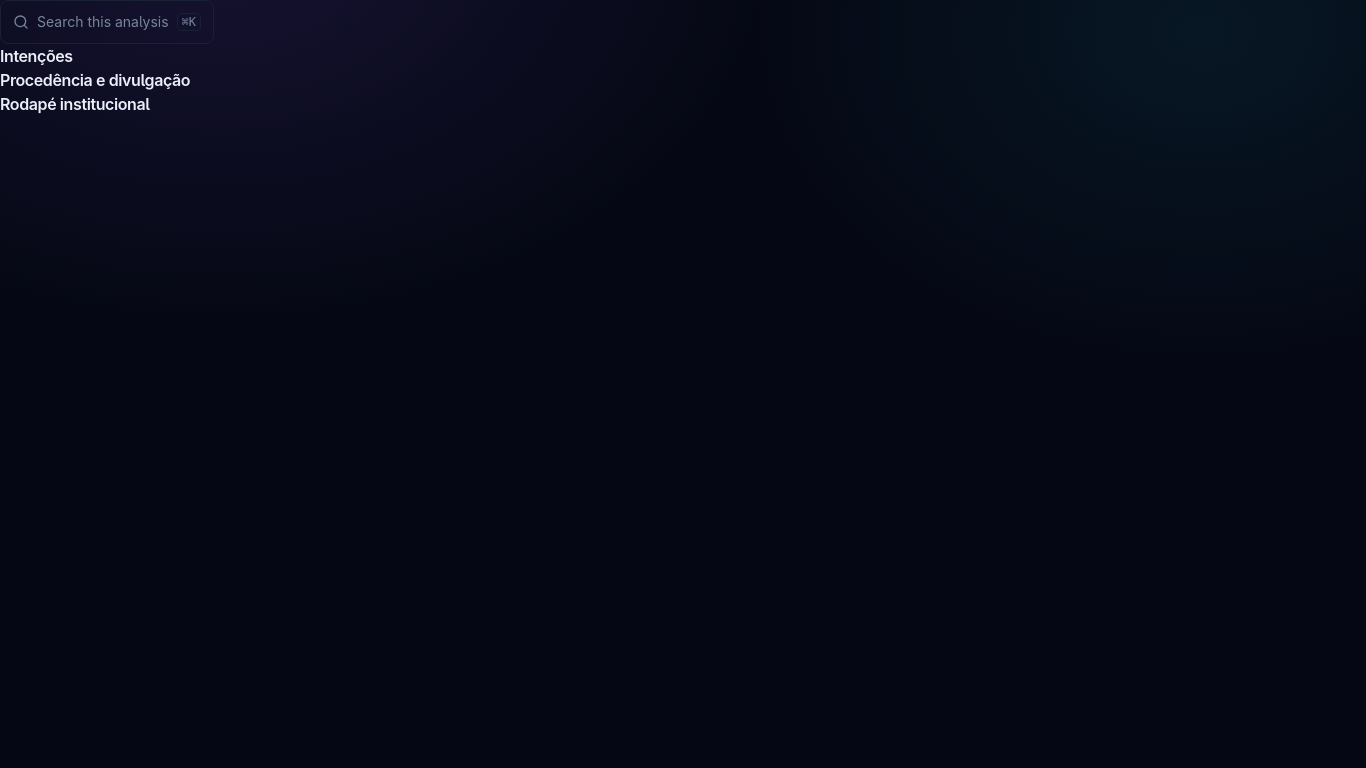
it: NAV-01 · paleta de comandos › sem resultado, DIZ O QUE FAZER — nunca lista vazia muda
Click the button "Search this analysis ⌘K" at (107, 22), box top-left (0, 0), bottom-right (214, 44)
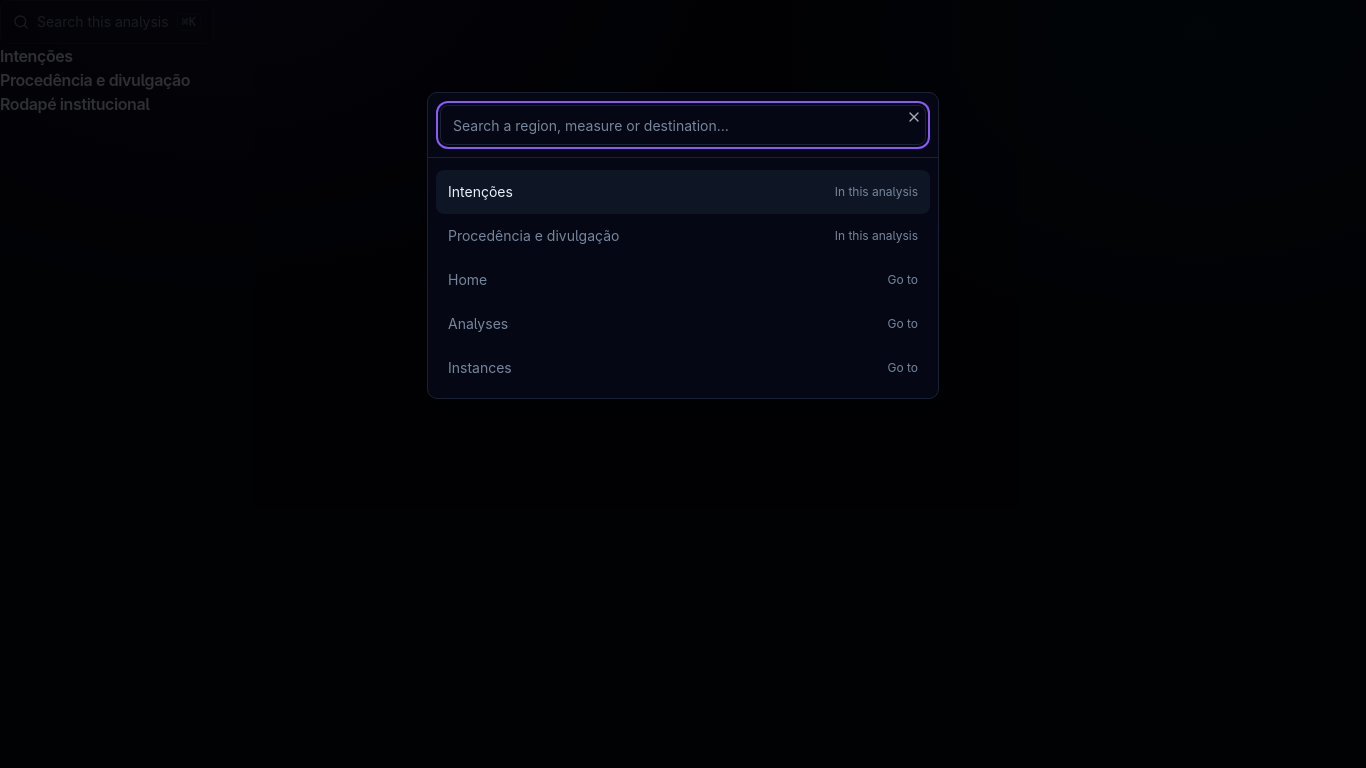
Type keys "zzzzzz"
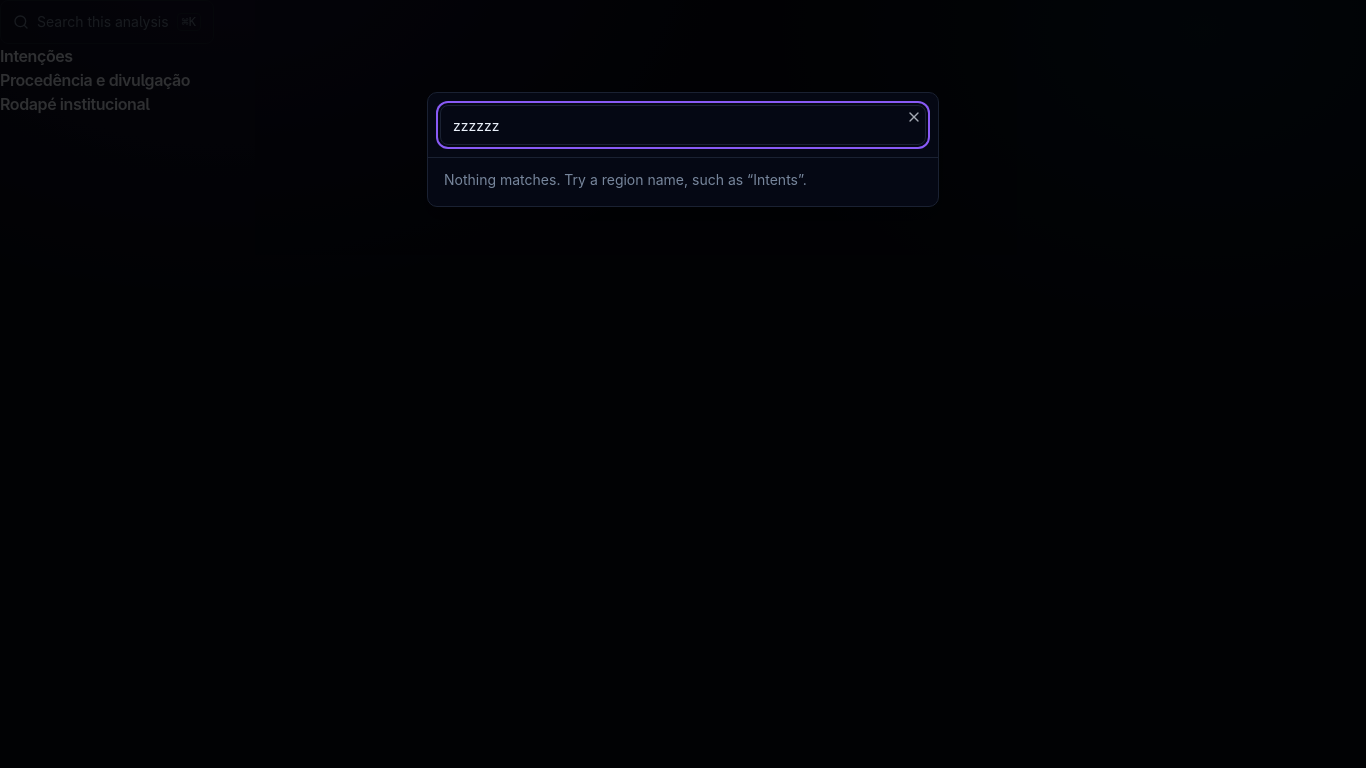
Expected: the list is gone
Expected: the text "Nothing matches. Try a region name, such as “Intents”." is shown, top-left (444, 171), bottom-right (807, 188)
